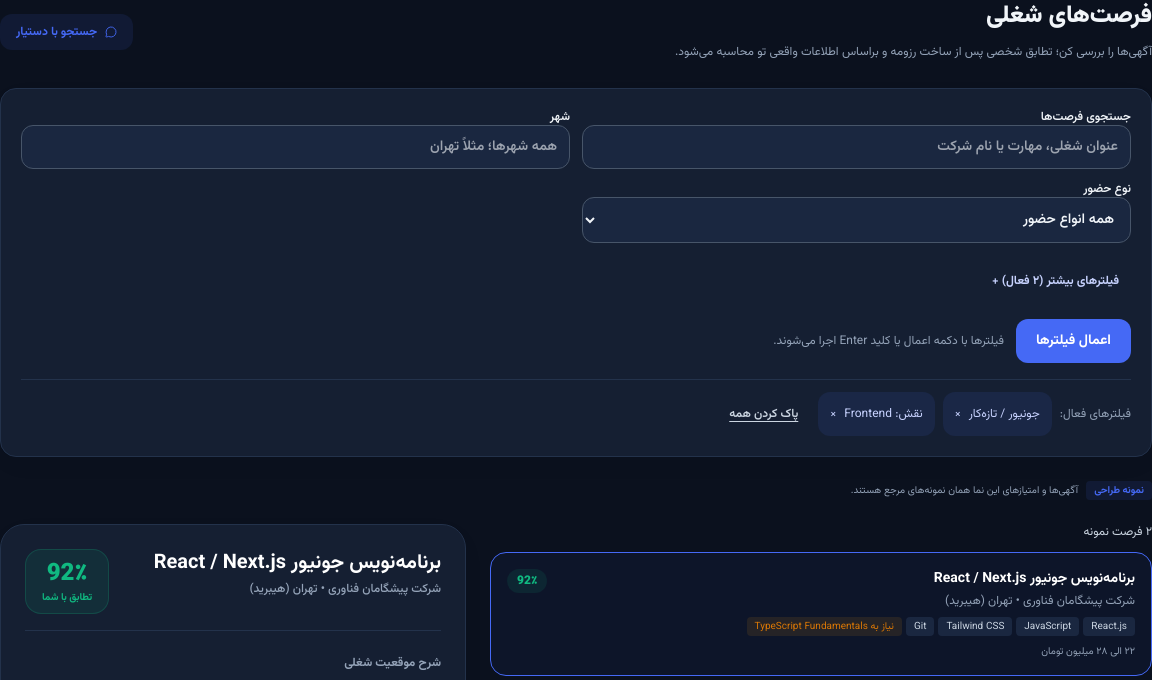
Scenario: Reference job discovery › searches skills and selects a matching detail
Type "Tailwind" into the search field labelled "جستجوی فرصت‌ها" at (856, 147), box left=582, top=125, right=1131, bottom=169
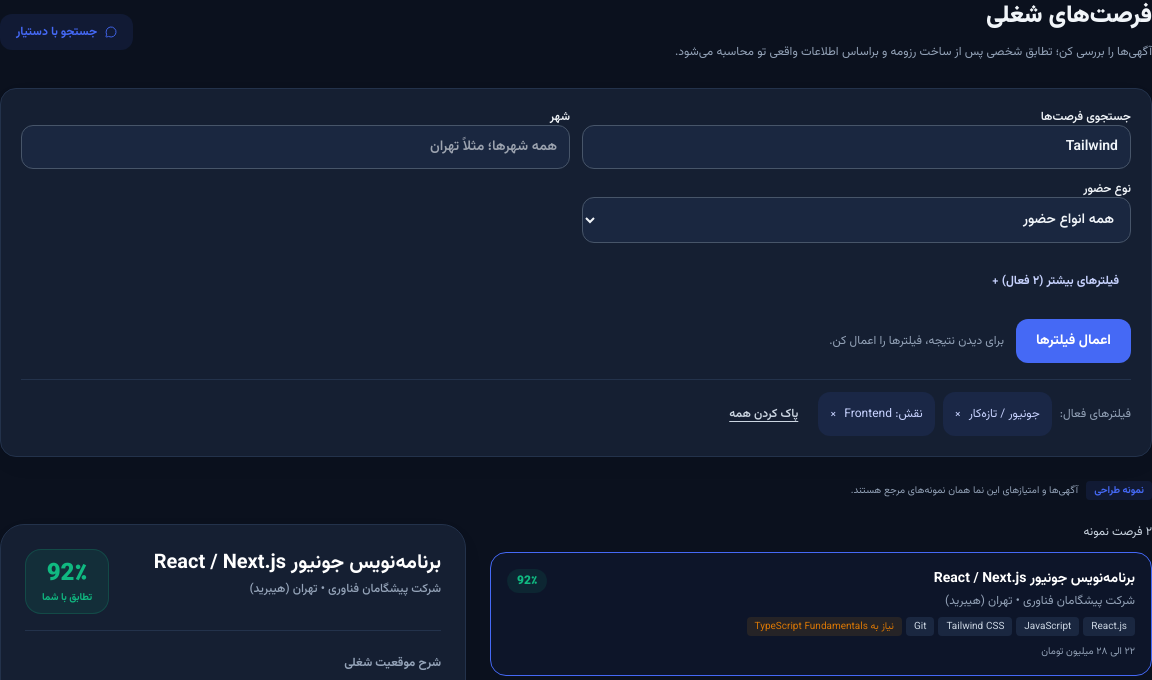
Click the button "اعمال فیلترها" at (1074, 341), box left=1016, top=319, right=1131, bottom=363
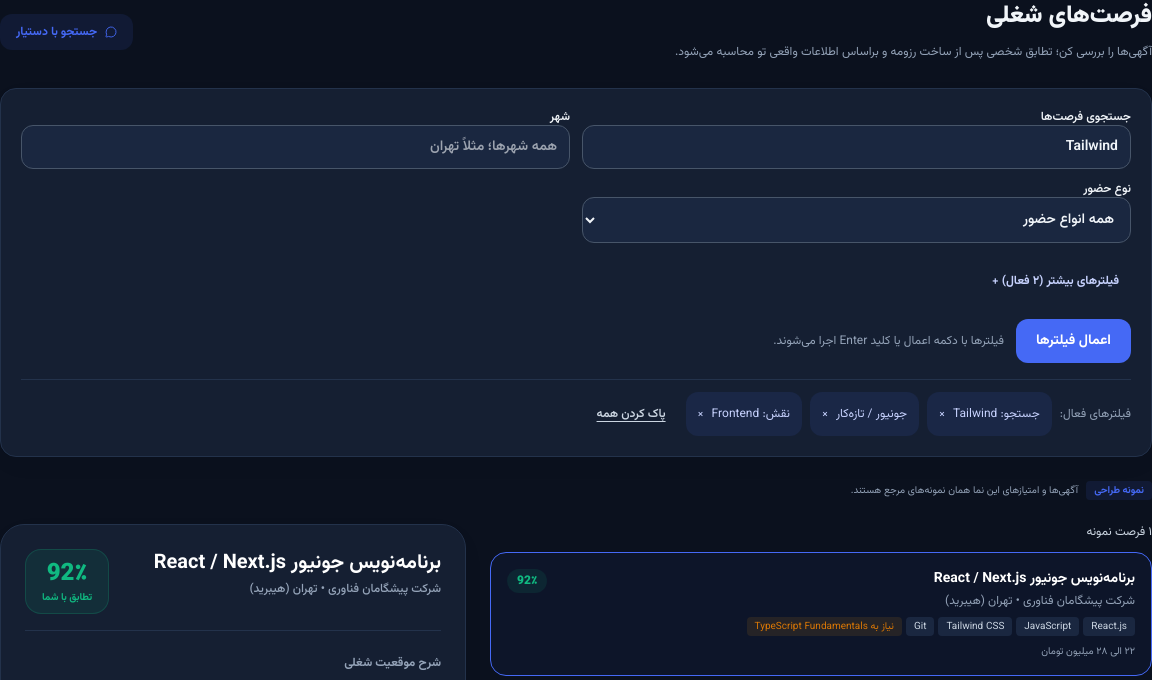
Expected: the number of buttons "شرکت پیشگامان فناوری" is 1, left=490, top=552, right=1151, bottom=676
